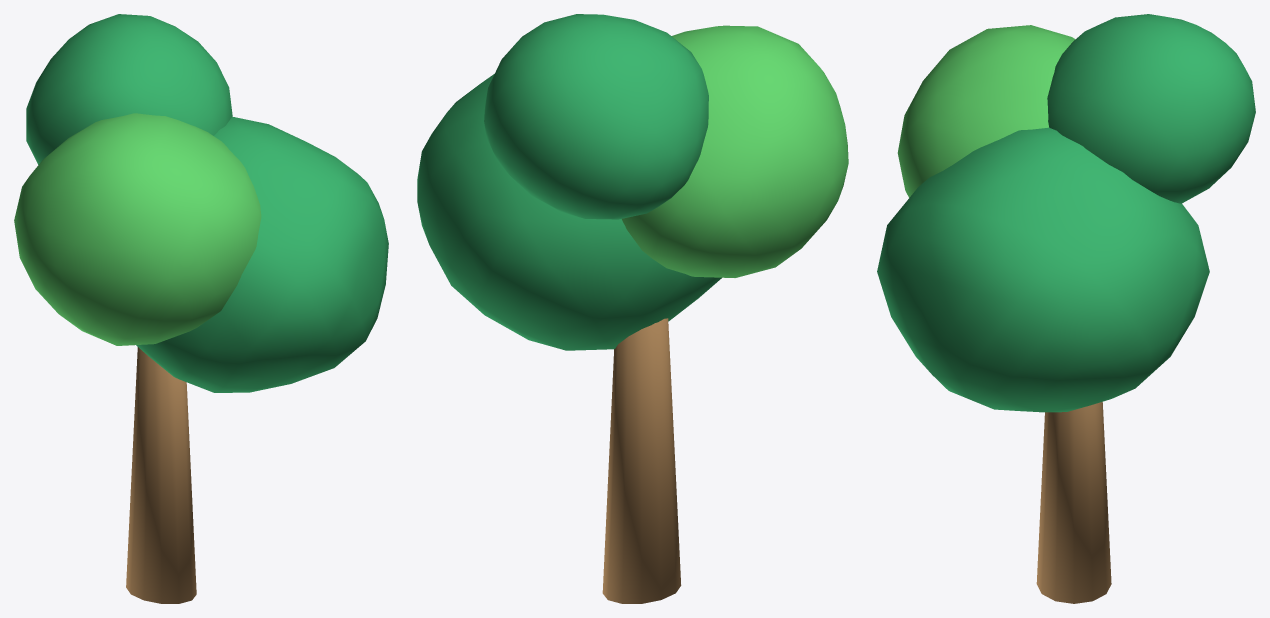
The model's file is tree_b.glb.
3 renders of one model, left to right at view 1: azimuth 30°, elevation 25°; view 2: azimuth 150°, elevation 25°; view 3: azimuth 270°, elevation 25°, orthographic. The views are drawn at different scales.
Visible parts, largest first — view 1: Tree; view 2: Tree; view 3: Tree.
Part boxes in pixels (x1,y1,x2,y2): Tree: (14,14,388,603); Tree: (417,14,848,603); Tree: (877,14,1255,603).
Bounding box in the file's own units: 5.11 × 7.54 × 4.56.
